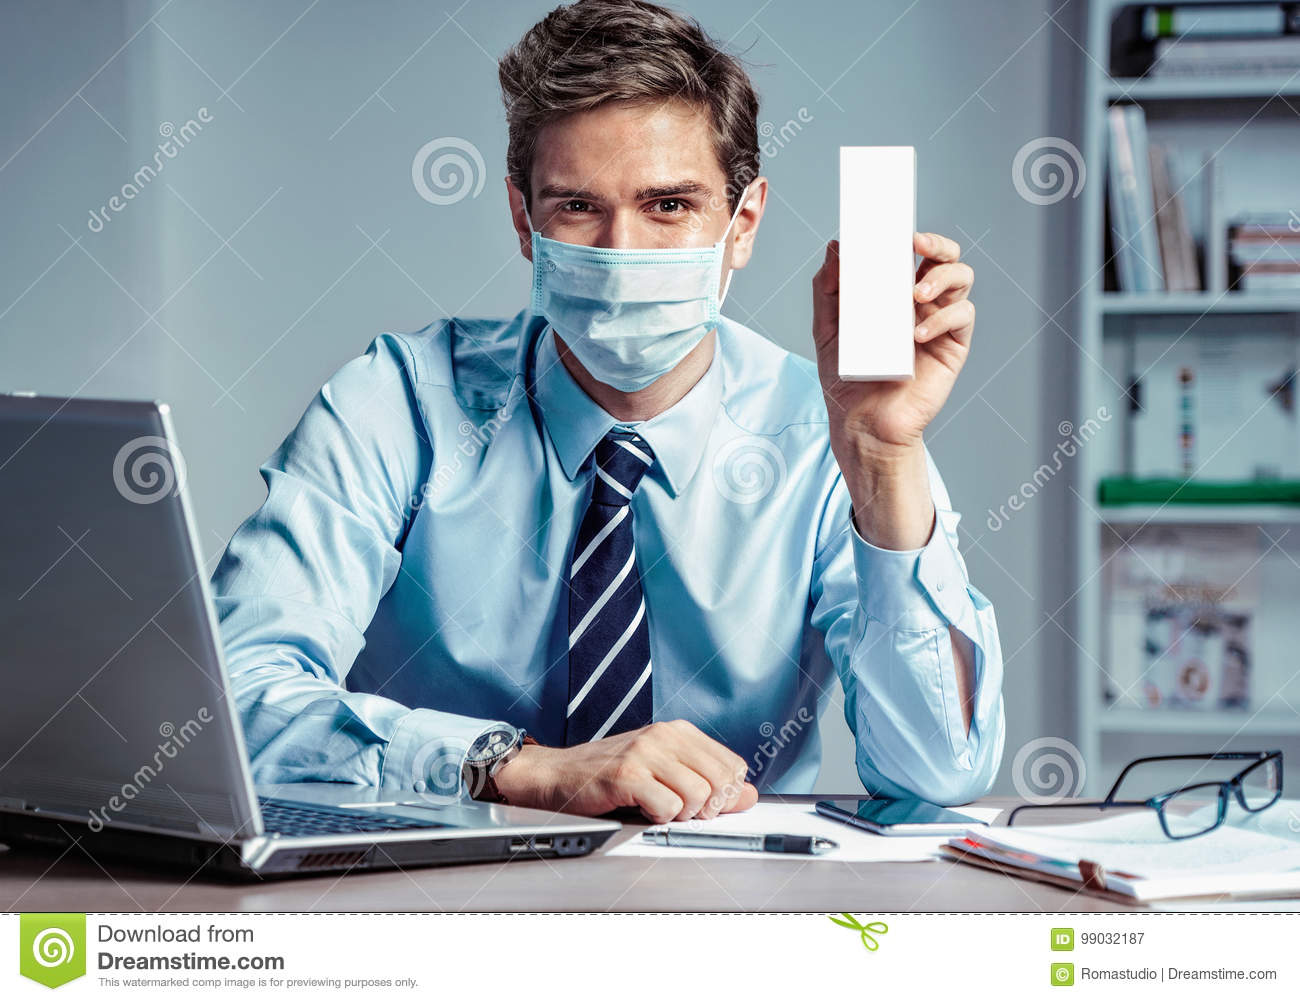mask: (532, 229, 724, 398)
